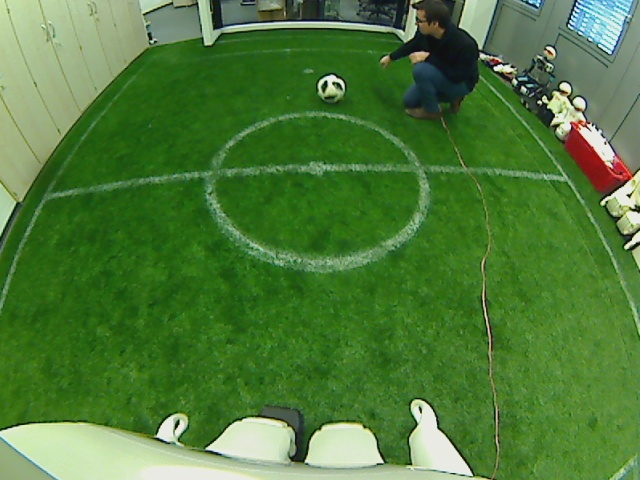ball: (317, 73, 346, 105)
